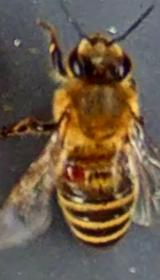varroa_mite: (55, 155, 93, 189)
